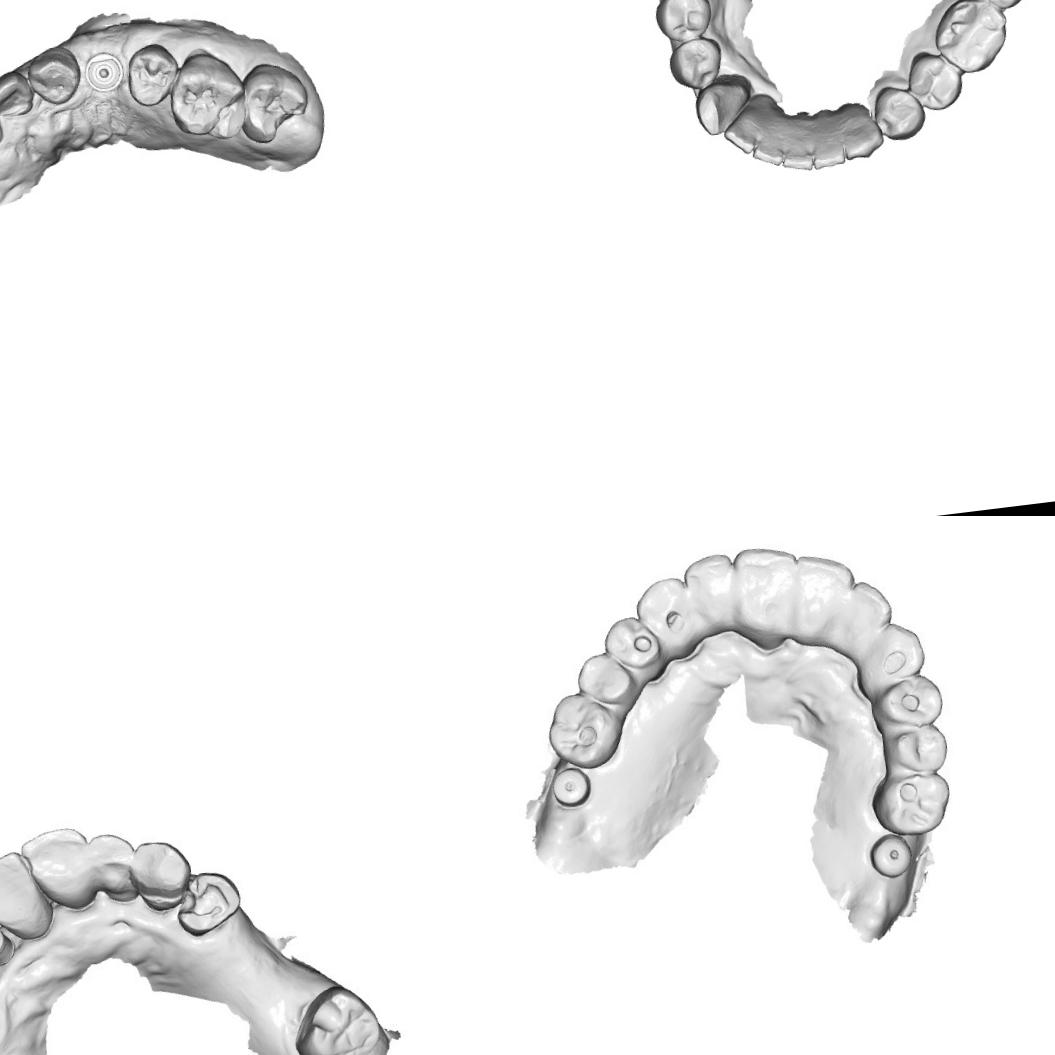canine: (850, 618, 931, 696), (631, 572, 698, 659), (128, 832, 195, 906), (22, 43, 85, 109), (690, 78, 754, 137), (838, 96, 886, 162)
implant: (867, 831, 914, 882), (548, 764, 595, 811), (84, 52, 128, 95)
implant_minus: (0, 925, 13, 959)
incisor: (726, 540, 806, 639), (15, 824, 98, 907), (785, 547, 865, 631), (824, 577, 897, 652), (678, 552, 740, 639), (82, 828, 141, 900), (0, 847, 40, 931), (807, 106, 846, 170), (0, 67, 37, 121), (721, 112, 765, 157), (750, 132, 786, 170), (780, 141, 815, 174)
molar: (162, 42, 251, 148), (538, 686, 625, 775), (288, 977, 386, 1055), (236, 59, 314, 146), (864, 766, 954, 840), (930, 0, 1013, 76)
premolar: (866, 671, 945, 733), (598, 613, 666, 681), (903, 47, 966, 114), (880, 722, 953, 778), (122, 39, 179, 109), (574, 649, 636, 708), (870, 82, 928, 144), (665, 34, 726, 92), (652, 0, 715, 45)
